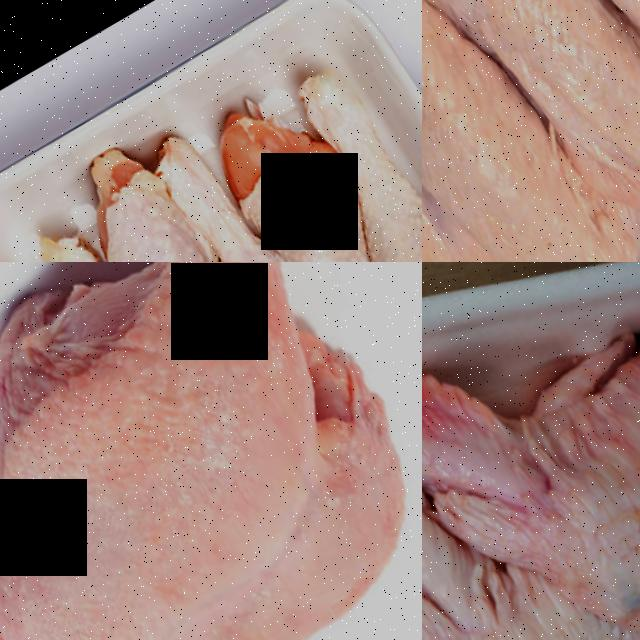chicken breast: (0, 262, 422, 640)
chicken thigh: (126, 118, 411, 262), (197, 85, 422, 262), (57, 136, 336, 262), (261, 44, 422, 262)
chicken wing: (422, 262, 640, 640), (479, 0, 640, 182)
